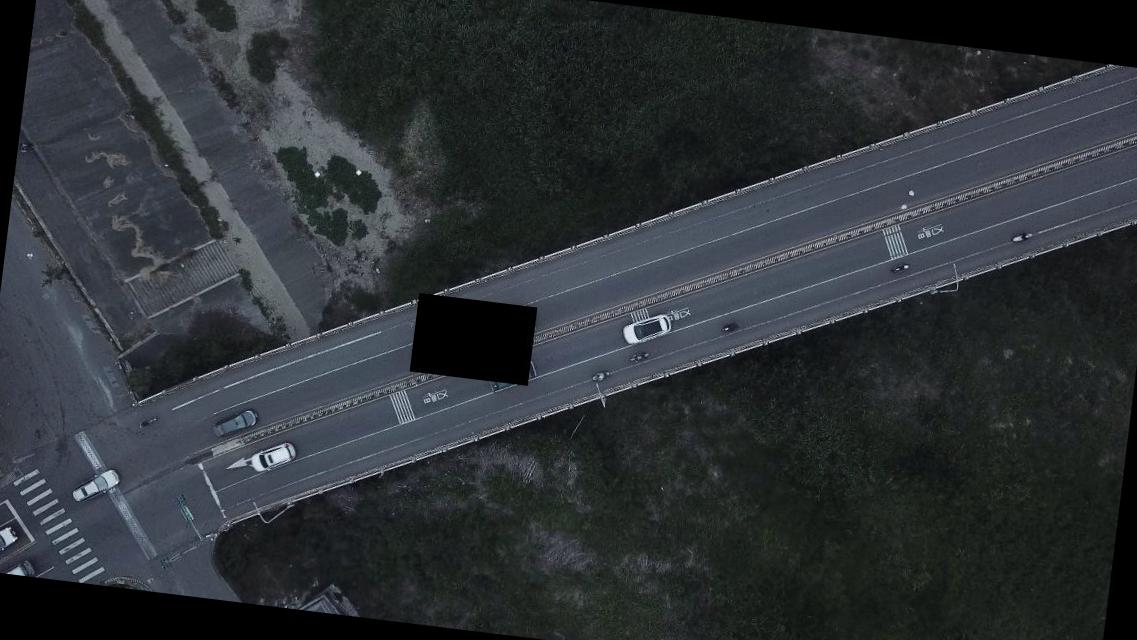vehicle: (70, 464, 120, 506), (487, 357, 538, 398), (619, 310, 670, 350), (247, 436, 296, 476), (211, 404, 256, 442), (0, 522, 17, 564)
